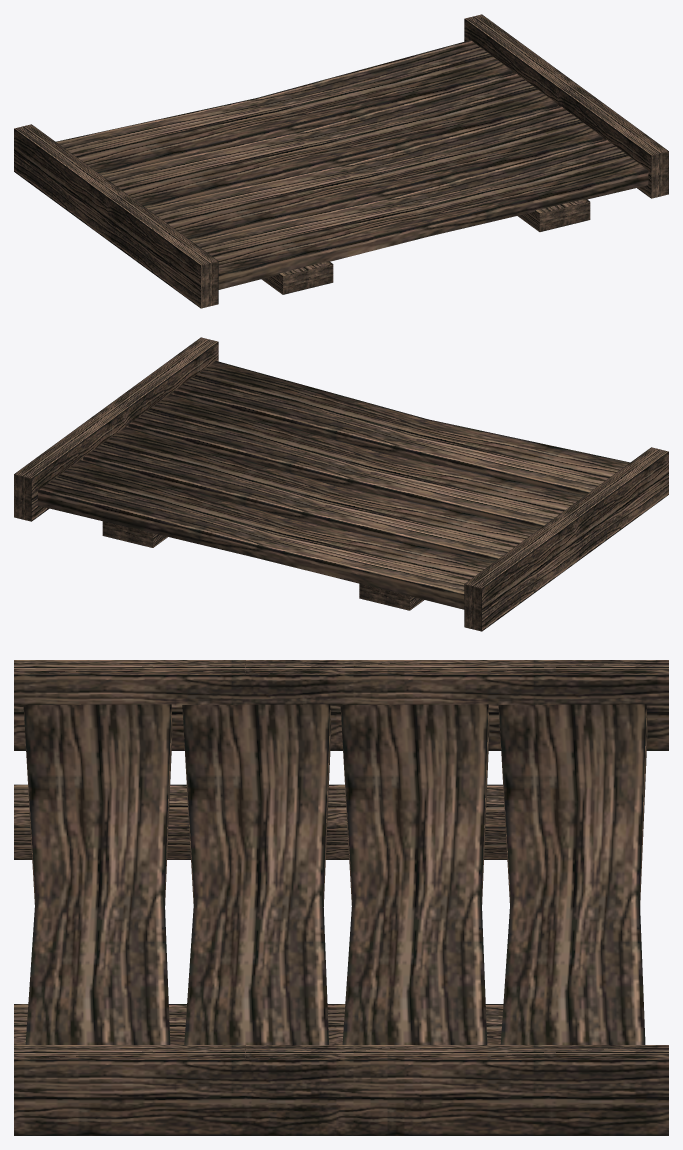
File: CB_LOOKOUT_PLATFORM02.fbx
3 renders of one model, top to bottom at view 1: azimuth 30°, elevation 25°; view 2: azimuth 150°, elevation 25°; view 3: azimuth 270°, elevation 25°, orthographic. The views are drawn at different scales.
Visible parts, largest first — view 1: CB_LOOKOUT_PLATFORM02; view 2: CB_LOOKOUT_PLATFORM02; view 3: CB_LOOKOUT_PLATFORM02.
Part boxes in pixels (x1,y1,x2,y2): CB_LOOKOUT_PLATFORM02: [14, 14, 668, 308]; CB_LOOKOUT_PLATFORM02: [14, 337, 668, 631]; CB_LOOKOUT_PLATFORM02: [14, 660, 668, 1135].
Bounding box in the file's own units: 26035 × 2635 × 18013.
1 material, 1 textured.
